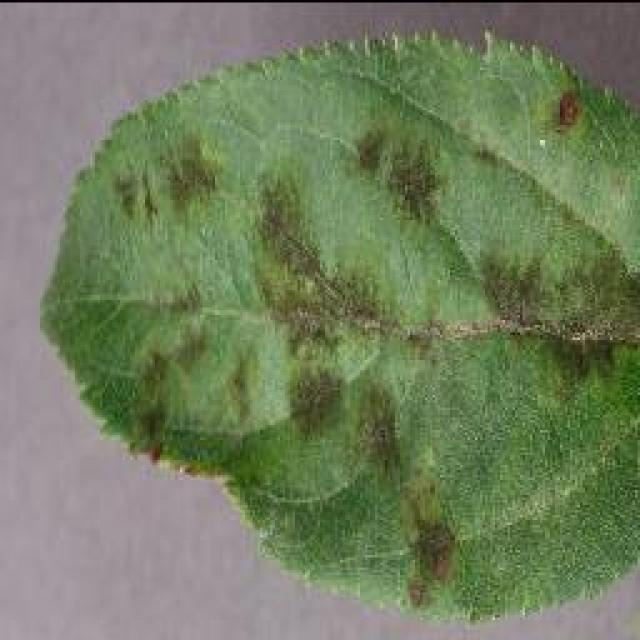apple scab disease: (38, 25, 638, 623)
